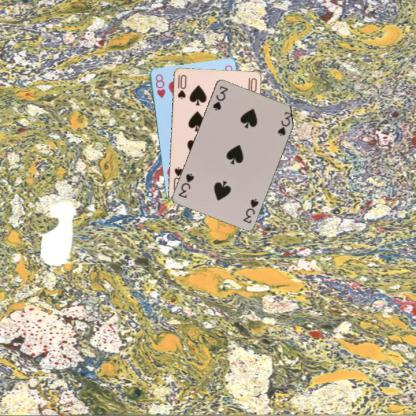10s: (175, 72, 188, 100)
3s: (240, 196, 260, 224), (210, 83, 229, 112)
8h: (152, 72, 166, 98)
